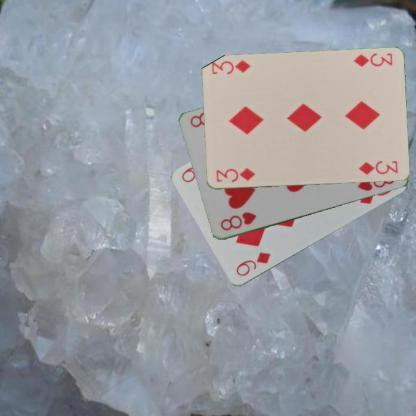3d: (350, 50, 394, 69), (213, 165, 256, 184)
8h: (218, 210, 258, 232)
9d: (232, 249, 272, 278)
